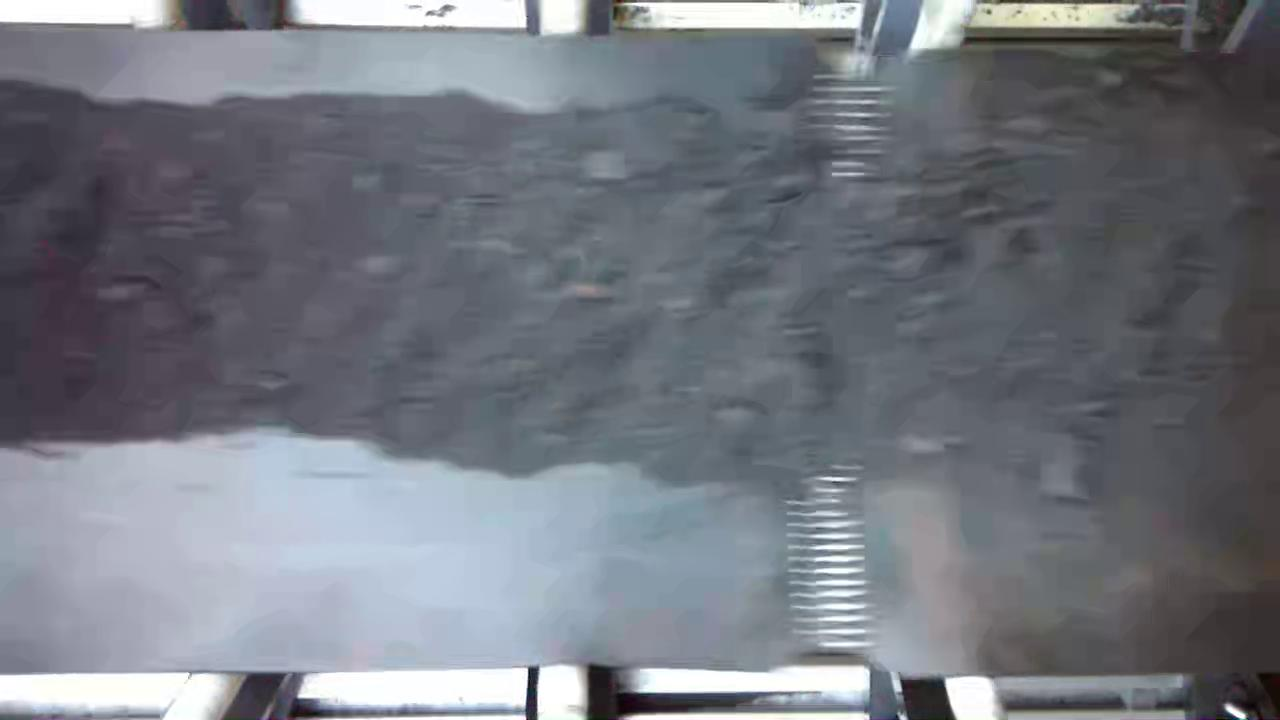conveyor: (3, 55, 1280, 664)
